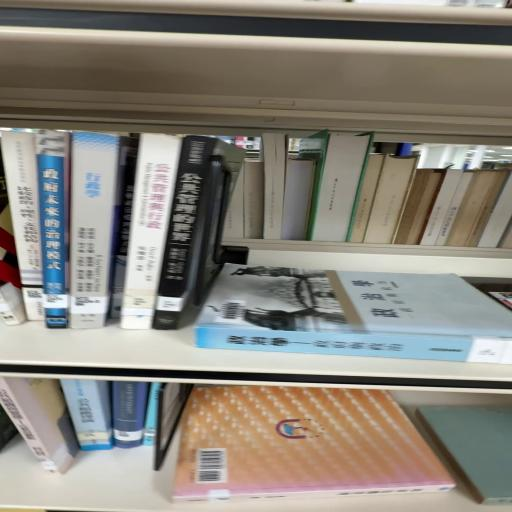flat: (174, 387, 456, 503), (197, 265, 512, 365)
